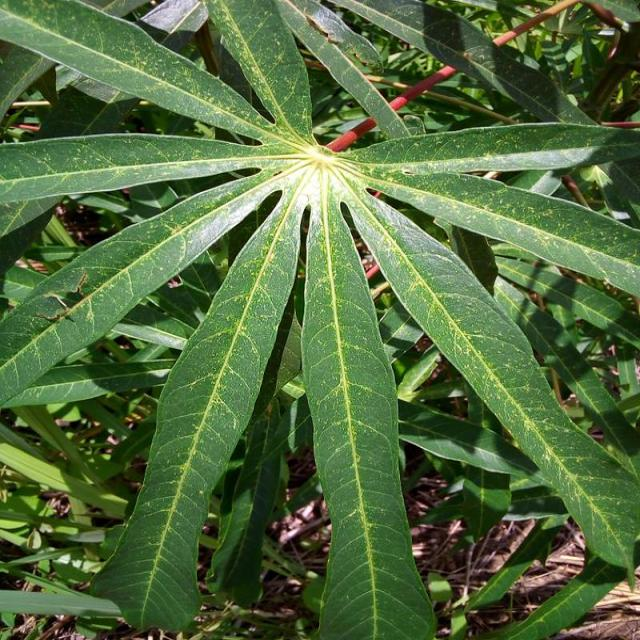cassava leaf: (0, 0, 638, 638), (89, 182, 304, 632), (299, 177, 437, 638)
